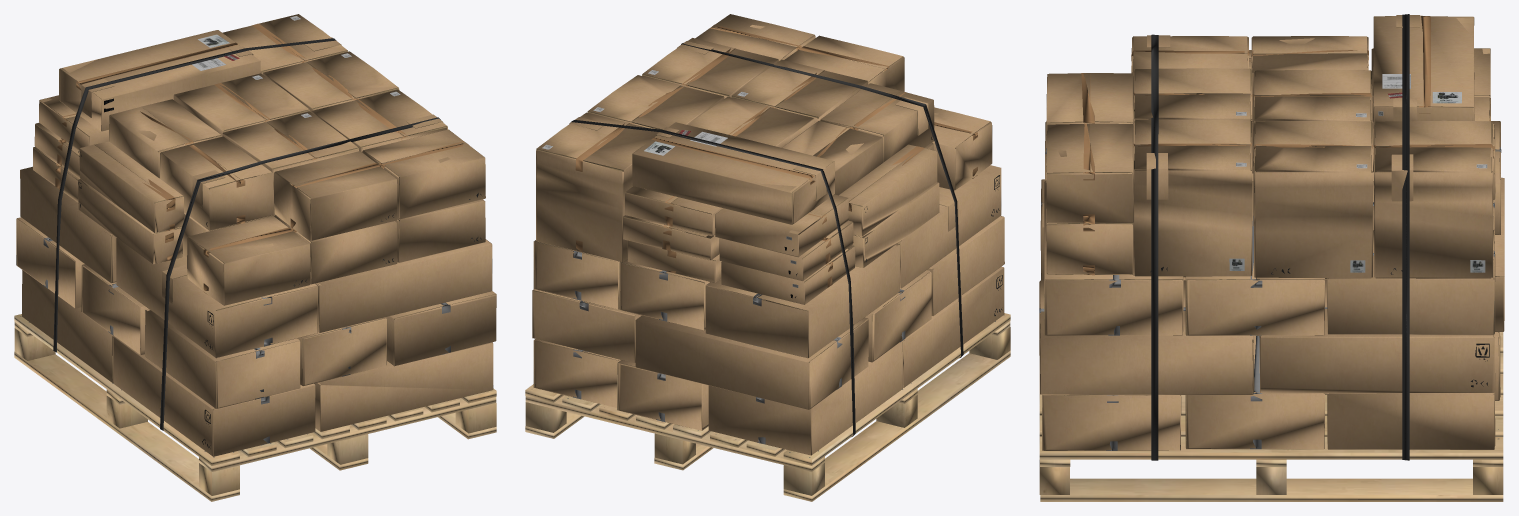
The model's file is load_brown.glb.
The picture shows the model from 3 angles, left to right: view 1: azimuth 30°, elevation 25°; view 2: azimuth 150°, elevation 25°; view 3: azimuth 270°, elevation 25°; orthographic projection. The views are drawn at different scales.
Visible parts, largest first — view 1: sm_pallet_assembly_brown_e05_mesh_00; view 2: sm_pallet_assembly_brown_e05_mesh_00; view 3: sm_pallet_assembly_brown_e05_mesh_00.
Boxes of the visible parts, bbox=[...] form: sm_pallet_assembly_brown_e05_mesh_00: bbox=[14, 14, 496, 501]; sm_pallet_assembly_brown_e05_mesh_00: bbox=[525, 14, 1010, 501]; sm_pallet_assembly_brown_e05_mesh_00: bbox=[1039, 14, 1504, 501].
Size of the model in its own units: 1.01 by 0.9776 by 1.2.
5 materials, 4 textured.
